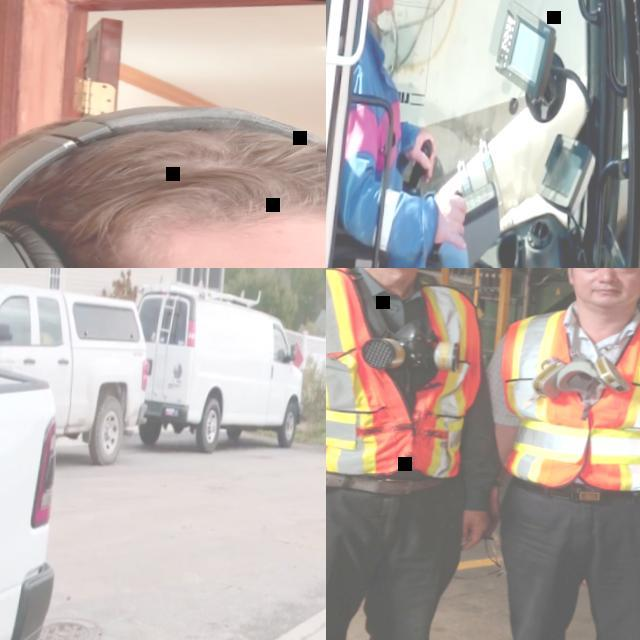vest: (326, 268, 497, 483), (490, 304, 640, 496), (338, 43, 413, 255)
